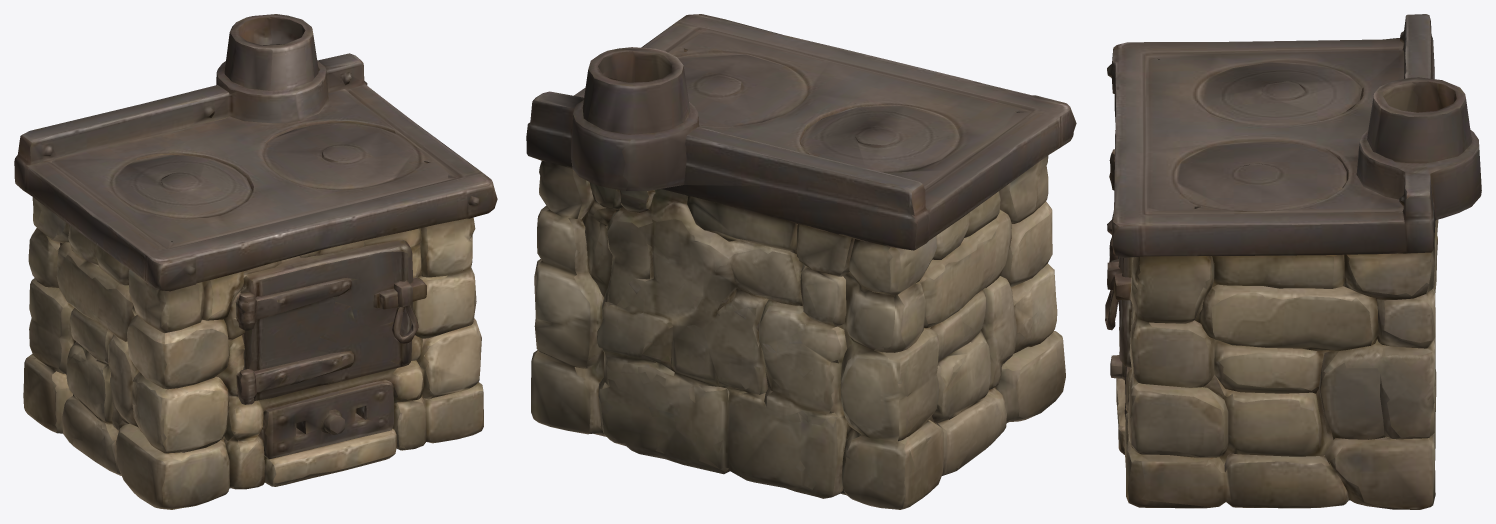
The picture shows the model from 3 angles, left to right: view 1: azimuth 30°, elevation 25°; view 2: azimuth 150°, elevation 25°; view 3: azimuth 270°, elevation 25°; orthographic projection. The views are drawn at different scales.
Visible parts, largest first — view 1: geometry_0; view 2: geometry_0; view 3: geometry_0.
Part boxes in pixels (<box>): geometry_0: <box>14,14,497,509</box>; geometry_0: <box>526,14,1076,509</box>; geometry_0: <box>1105,14,1481,509</box>.
Bounding box in the file's own units: 0.7987 × 0.7422 × 0.6785.
1 material, 1 textured.
